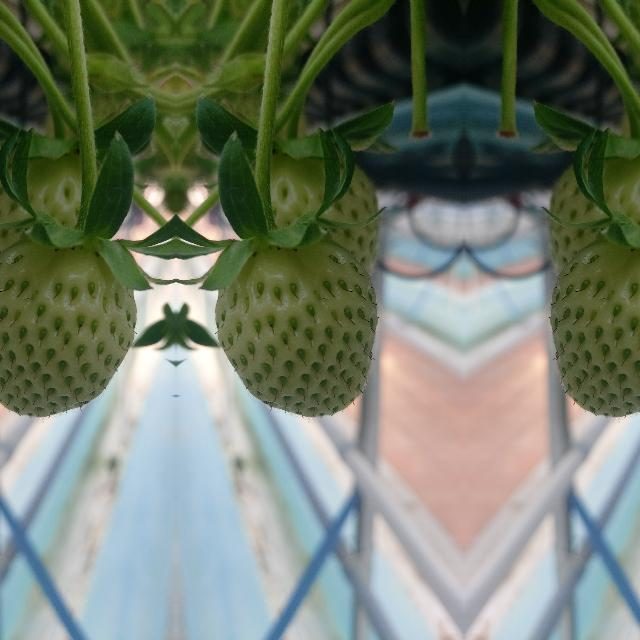Health_25: (214, 238, 376, 417), (0, 237, 136, 416), (242, 146, 374, 310), (0, 146, 108, 310), (550, 237, 640, 416), (551, 146, 640, 310)
